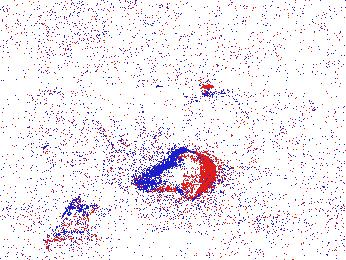flame jellyfish: (133, 146, 216, 201), (217, 198, 290, 260), (45, 197, 103, 260)
